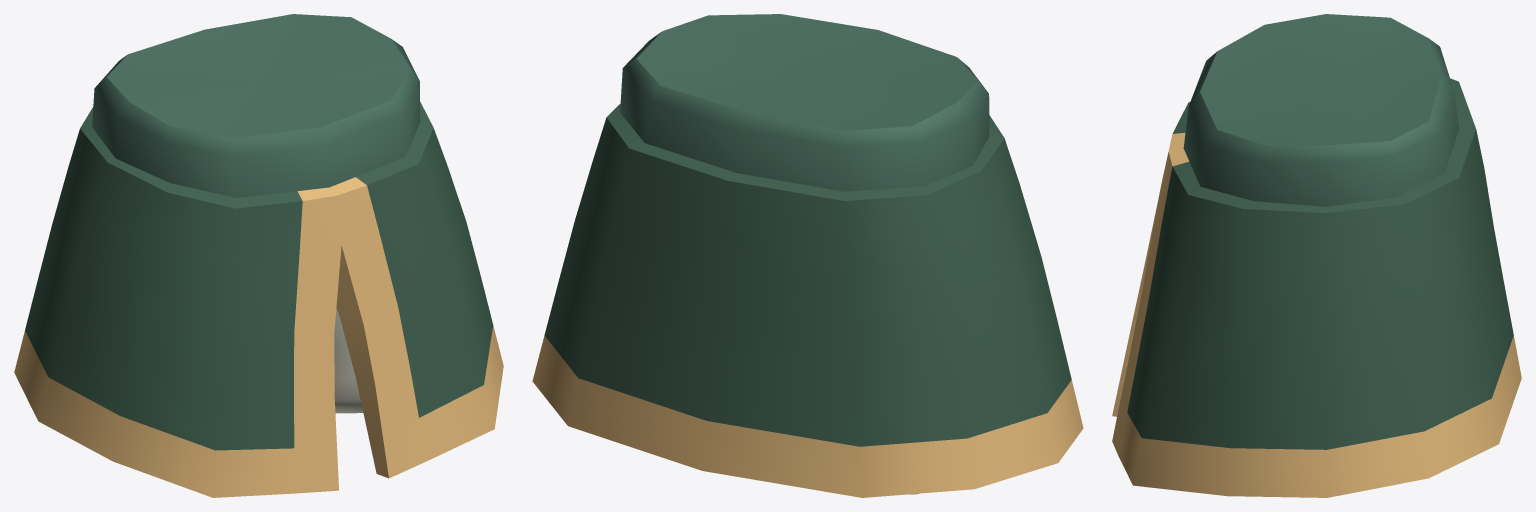
The model's file is Bottom_46.fbx.
The picture shows the model from 3 angles, left to right: view 1: azimuth 30°, elevation 25°; view 2: azimuth 150°, elevation 25°; view 3: azimuth 270°, elevation 25°; orthographic projection. The views are drawn at different scales.
Parts seen in each view (by area): view 1: Bottom_46; view 2: Bottom_46; view 3: Bottom_46.
Boxes of the visible parts, bbox=[...] form: Bottom_46: bbox=[14, 14, 503, 497]; Bottom_46: bbox=[532, 14, 1083, 497]; Bottom_46: bbox=[1112, 14, 1521, 497].
Bounding box in the file's own units: 58.3 × 43.08 × 45.26.
